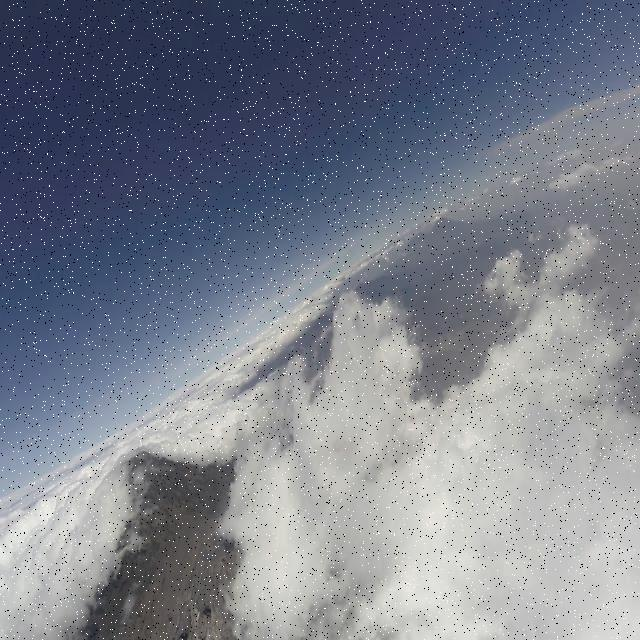Summit: (131, 500, 336, 640)
